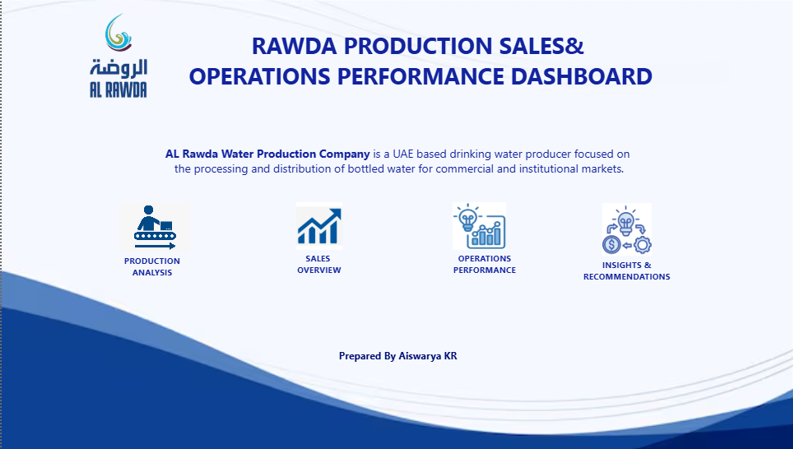

This screenshot's page, from the dashboard's own definition file:
{"tool":"powerbi","page":{"name":"Home","canvas":[1480,840],"ordinal":0},"visuals":[{"type":"textbox","box":[251.8,50,1065.5,165.5],"z":0,"group":"g4"},{"type":"actionButton","box":[220.1,378.6,132.7,93.6],"z":0,"group":"g2"},{"type":"actionButton","box":[550.3,378.6,86.5,89.3],"z":0,"group":"g3"},{"type":"actionButton","box":[843.2,378.6,99.5,89.3],"z":0,"group":"g5"},{"type":"actionButton","box":[1123,380,92.3,99.4],"z":0,"group":"g6"},{"type":"textbox","box":[592.9,648.3,297.3,61.7],"z":0},{"type":"group","id":"g1","title":"Group 6","box":[211.4,378.6,1054.3,158.6],"z":1000},{"type":"group","id":"g2","title":"Group 1","box":[211.4,378.6,141.4,158.4],"z":1000,"group":"g1"},{"type":"textbox","box":[522.9,467.9,141.4,64.8],"z":1000,"group":"g3"},{"type":"textbox","box":[833.1,467.9,141.4,64.8],"z":1000,"group":"g5"},{"type":"textbox","box":[211.4,472.2,141.4,64.8],"z":1000,"group":"g2"},{"type":"textbox","box":[1072.5,479.4,193.3,57.6],"z":1000,"group":"g6"},{"type":"textbox","box":[24.5,267.2,1431,93.1],"z":2000},{"type":"group","id":"g3","title":"Group 2","box":[522.9,378.6,141.4,154.1],"z":2000,"group":"g1"},{"type":"group","id":"g4","title":"Group 5","box":[105.2,0,1212.1,215.5],"z":3000},{"type":"image","box":[105.2,0,234.5,215.5],"z":3000,"group":"g4"},{"type":"group","id":"g5","title":"Group 3","box":[833.1,378.6,141.4,154.1],"z":3000,"group":"g1"},{"type":"group","id":"g6","title":"Group 4","box":[1072.5,380,193.3,157],"z":4000,"group":"g1"}]}

Visuals, with their boxes in screenshot pixels (x1, y1, x2, y2), scaled from the page's 1480x840 canvas onto the 793x449 screenshot:
textbox: <box>135,27,706,115</box>
actionButton: <box>118,202,189,252</box>
actionButton: <box>295,202,341,250</box>
actionButton: <box>452,202,505,250</box>
actionButton: <box>602,203,651,256</box>
textbox: <box>318,347,477,380</box>
"Group 6" group: <box>113,202,678,287</box>
"Group 1" group: <box>113,202,189,287</box>
textbox: <box>280,250,356,285</box>
textbox: <box>446,250,522,285</box>
textbox: <box>113,252,189,287</box>
textbox: <box>575,256,678,287</box>
textbox: <box>13,143,780,193</box>
"Group 2" group: <box>280,202,356,285</box>
"Group 5" group: <box>56,0,706,115</box>
image: <box>56,0,182,115</box>
"Group 3" group: <box>446,202,522,285</box>
"Group 4" group: <box>575,203,678,287</box>
